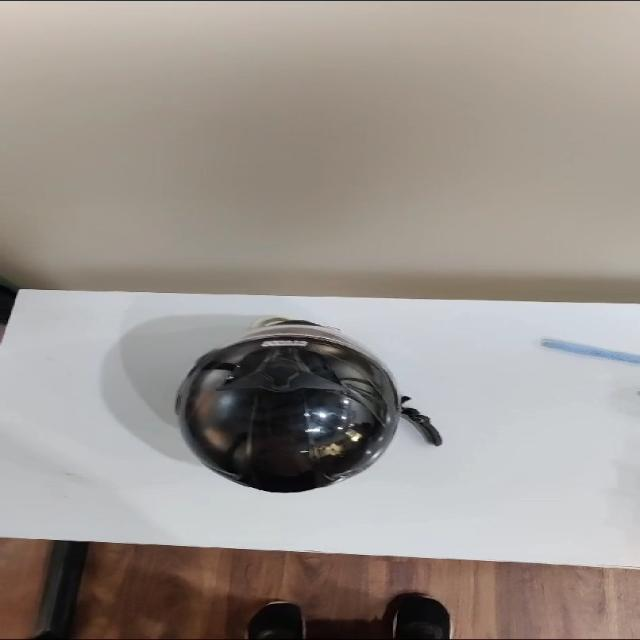helmet: (176, 318, 440, 491)
